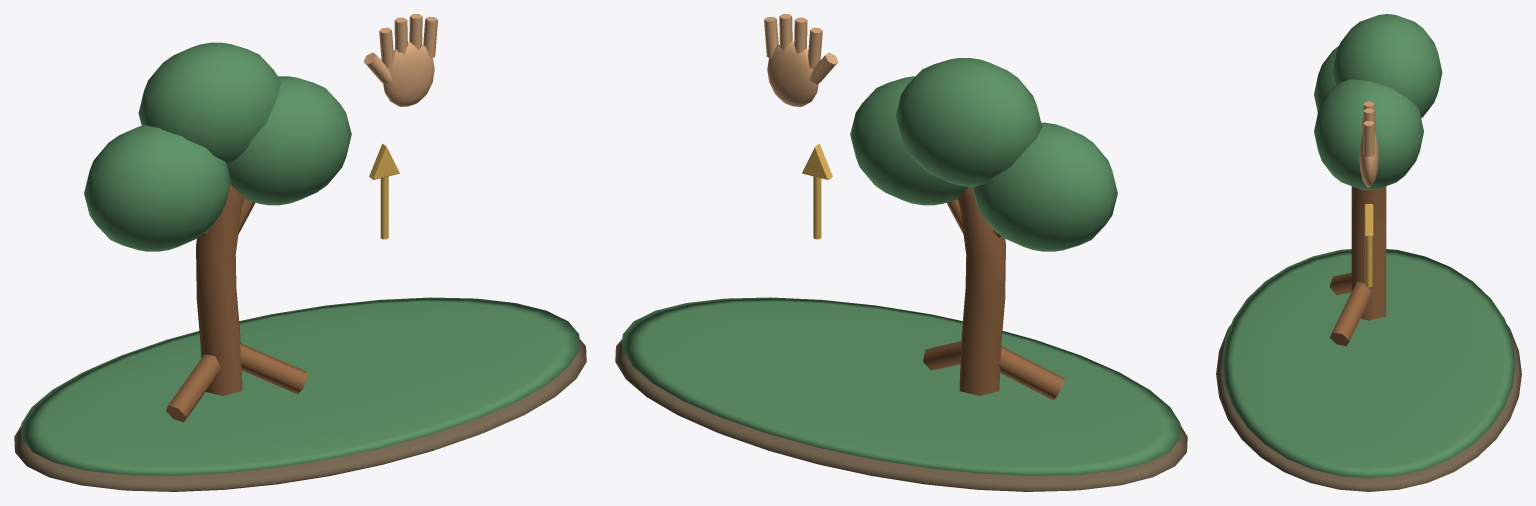
Rendered from complete-second-tree-limit.glb.
3 renders of one model, left to right at view 1: azimuth 30°, elevation 25°; view 2: azimuth 150°, elevation 25°; view 3: azimuth 270°, elevation 25°, orthographic. The views are drawn at different scales.
Visible parts, largest first — view 1: complete-second-tree-limit_surface_01, complete-second-tree-limit_surface_02, complete-second-tree-limit_surface_00, complete-second-tree-limit_surface_03, complete-second-tree-limit_surface_04; view 2: complete-second-tree-limit_surface_01, complete-second-tree-limit_surface_02, complete-second-tree-limit_surface_00, complete-second-tree-limit_surface_03, complete-second-tree-limit_surface_04; view 3: complete-second-tree-limit_surface_01, complete-second-tree-limit_surface_00, complete-second-tree-limit_surface_02, complete-second-tree-limit_surface_03, complete-second-tree-limit_surface_04.
Boxes of the visible parts, box(x1,y1,x2,y2) form: complete-second-tree-limit_surface_01: box(21, 42, 579, 475); complete-second-tree-limit_surface_02: box(166, 183, 307, 422); complete-second-tree-limit_surface_00: box(14, 339, 586, 491); complete-second-tree-limit_surface_03: box(363, 14, 437, 106); complete-second-tree-limit_surface_04: box(369, 143, 399, 239); complete-second-tree-limit_surface_01: box(622, 58, 1180, 475); complete-second-tree-limit_surface_02: box(923, 187, 1064, 400); complete-second-tree-limit_surface_00: box(615, 339, 1187, 491); complete-second-tree-limit_surface_03: box(764, 14, 838, 106); complete-second-tree-limit_surface_04: box(802, 143, 832, 239); complete-second-tree-limit_surface_01: box(1222, 14, 1515, 478); complete-second-tree-limit_surface_00: box(1216, 324, 1521, 491); complete-second-tree-limit_surface_02: box(1329, 186, 1386, 346); complete-second-tree-limit_surface_03: box(1359, 101, 1378, 187); complete-second-tree-limit_surface_04: box(1364, 204, 1373, 287).
Bounding box in the file's own units: 4.56 × 3.01 × 2.5.
